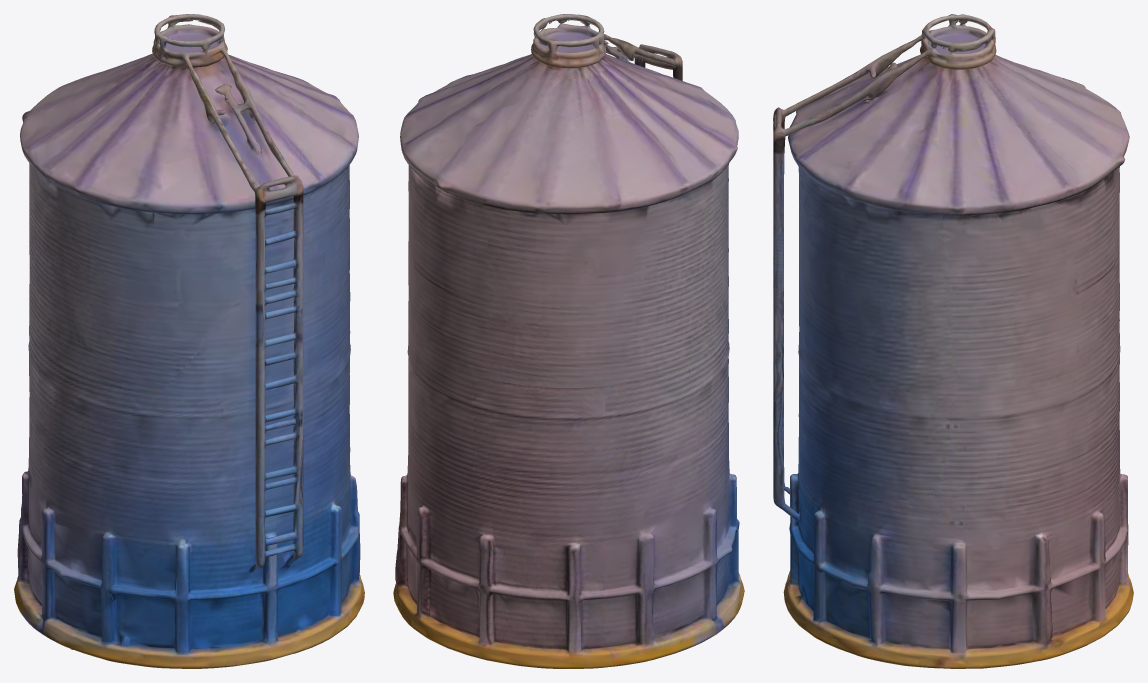
The model's file is silo.glb.
The picture shows the model from 3 angles, left to right: view 1: azimuth 30°, elevation 25°; view 2: azimuth 150°, elevation 25°; view 3: azimuth 270°, elevation 25°; orthographic projection.
Visible parts, largest first — view 1: tripo_node_9a928c60-2782-490e-8491-1bb54a2b7498; view 2: tripo_node_9a928c60-2782-490e-8491-1bb54a2b7498; view 3: tripo_node_9a928c60-2782-490e-8491-1bb54a2b7498.
Part boxes in pixels (x1=…): tripo_node_9a928c60-2782-490e-8491-1bb54a2b7498: x1=14, y1=14, x2=364, y2=668; tripo_node_9a928c60-2782-490e-8491-1bb54a2b7498: x1=393, y1=14, x2=744, y2=668; tripo_node_9a928c60-2782-490e-8491-1bb54a2b7498: x1=773, y1=14, x2=1133, y2=668.
Size of the model in its own units: 0.5056 by 0.949 by 0.521.
Materials: 1 (1 with a texture image).
